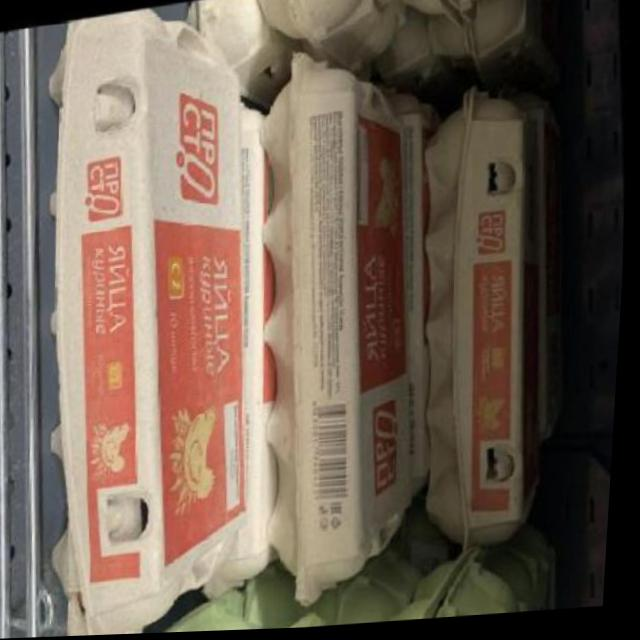Egg: (13, 0, 295, 639), (228, 36, 454, 611), (393, 83, 575, 561)
